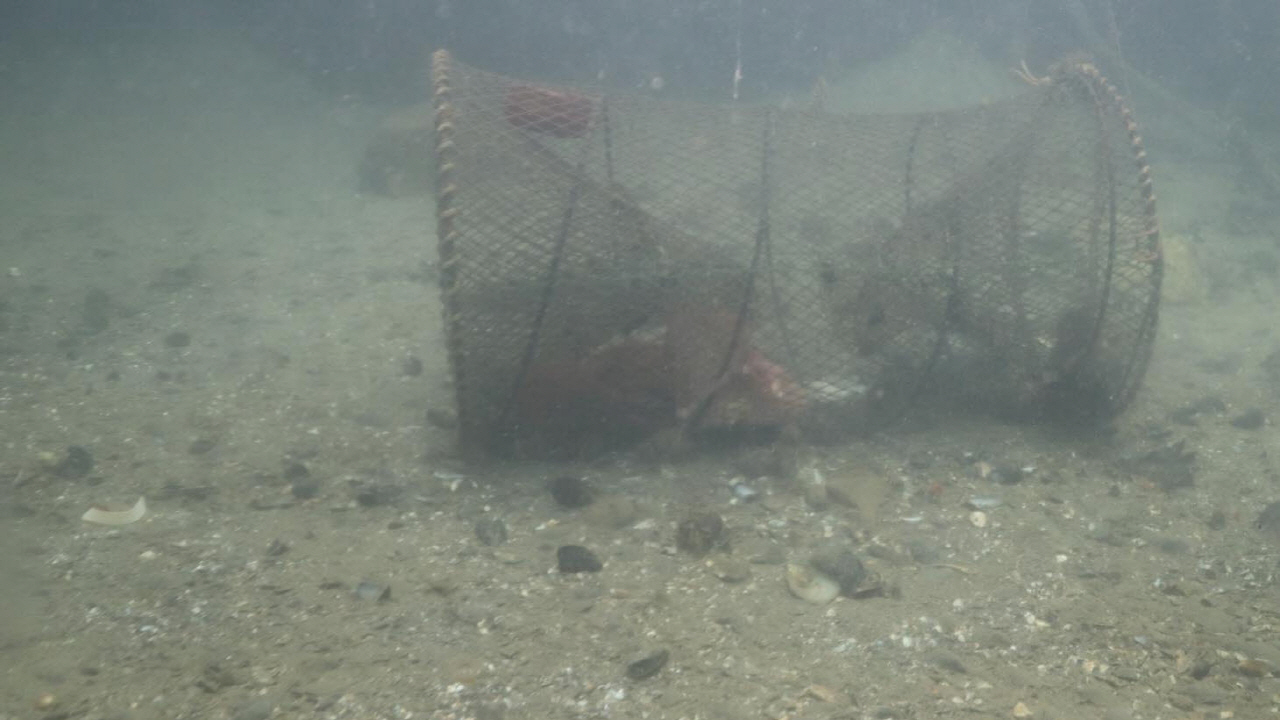spring fish trap: (429, 47, 1162, 455)
